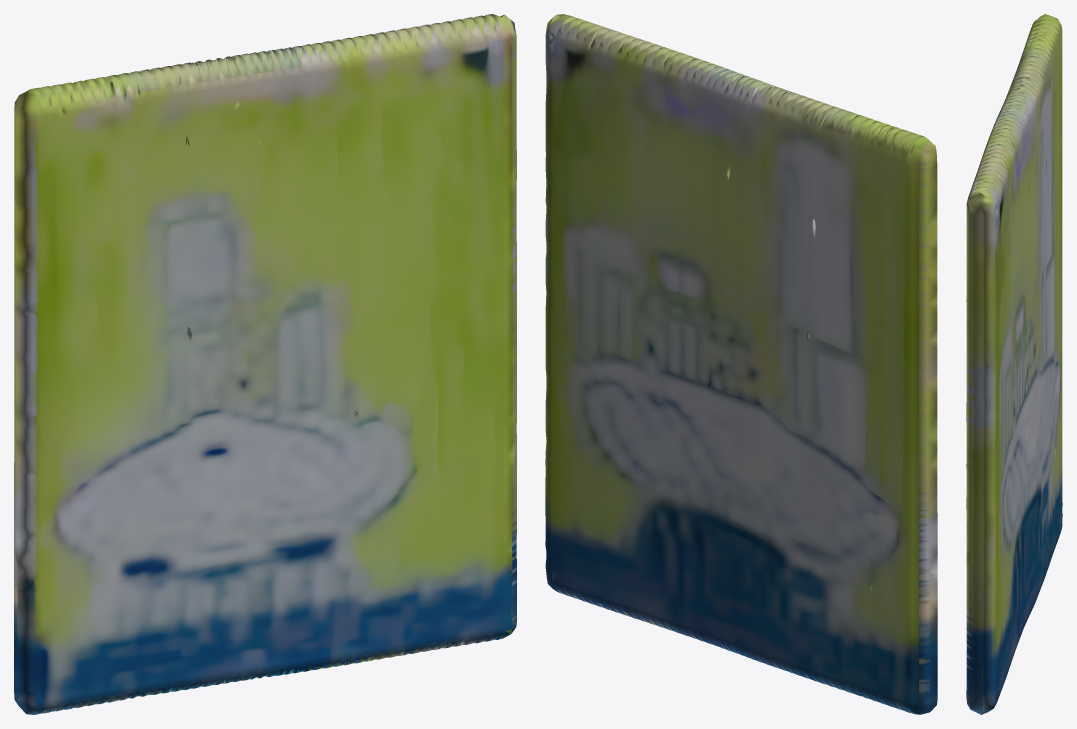
The model's file is sink.glb.
3 views of the same model, side by side, from view 1: azimuth 30°, elevation 25°; view 2: azimuth 150°, elevation 25°; view 3: azimuth 270°, elevation 25° (orthographic). The views are drawn at different scales.
Parts seen in each view (by area): view 1: textured; view 2: textured; view 3: textured.
Boxes of the visible parts, box(x1,y1,x2,y2) form: textured: box(14, 14, 516, 714); textured: box(545, 14, 937, 714); textured: box(966, 14, 1062, 714).
Bounding box in the file's own units: 1.62 × 2.09 × 0.3486.
Materials: 1 (1 with a texture image).
